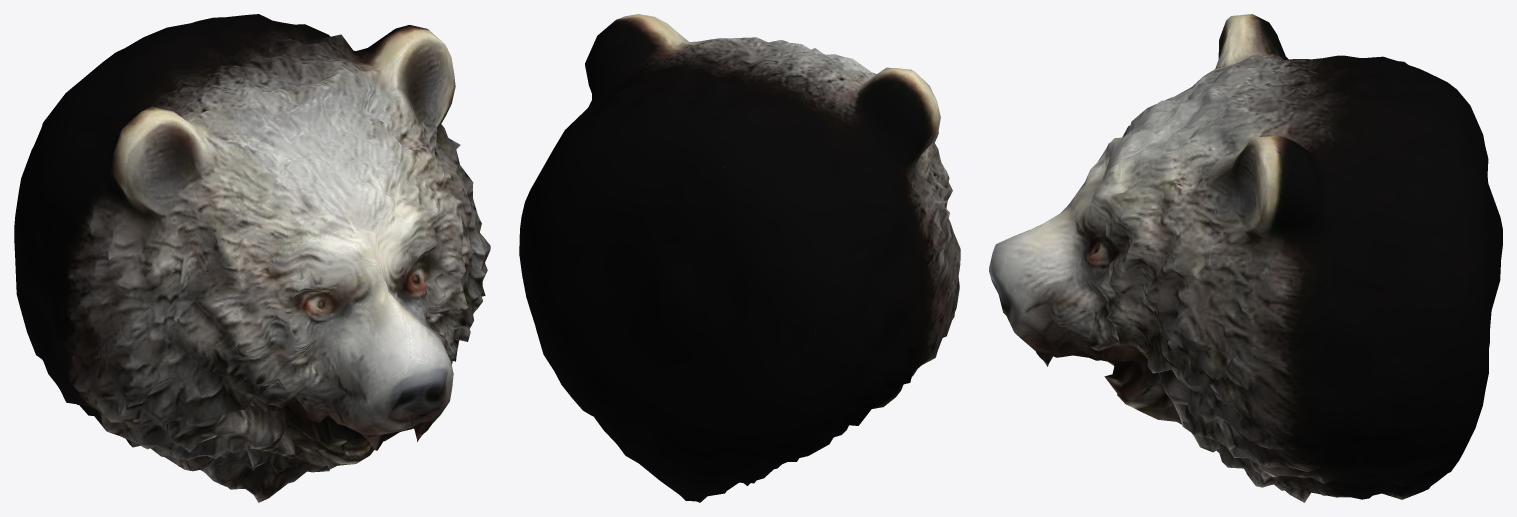
Rendered from kop_beer.glb.
3 renders of one model, left to right at view 1: azimuth 30°, elevation 25°; view 2: azimuth 150°, elevation 25°; view 3: azimuth 270°, elevation 25°, orthographic. The views are drawn at different scales.
Parts seen in each view (by area): view 1: Object_4; view 2: Object_4; view 3: Object_4.
Part boxes in pixels (x1,y1,x2,y2): Object_4: (14,14,490,502); Object_4: (519,14,960,502); Object_4: (989,14,1502,502).
Bounding box in the file's own units: 0.34 × 0.3675 × 0.4011.
1 material, 1 textured.
